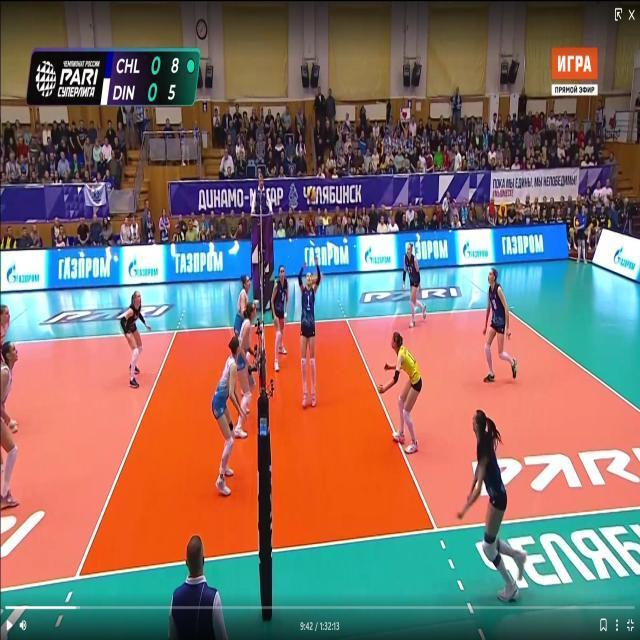volleyball: (307, 190, 317, 200)
